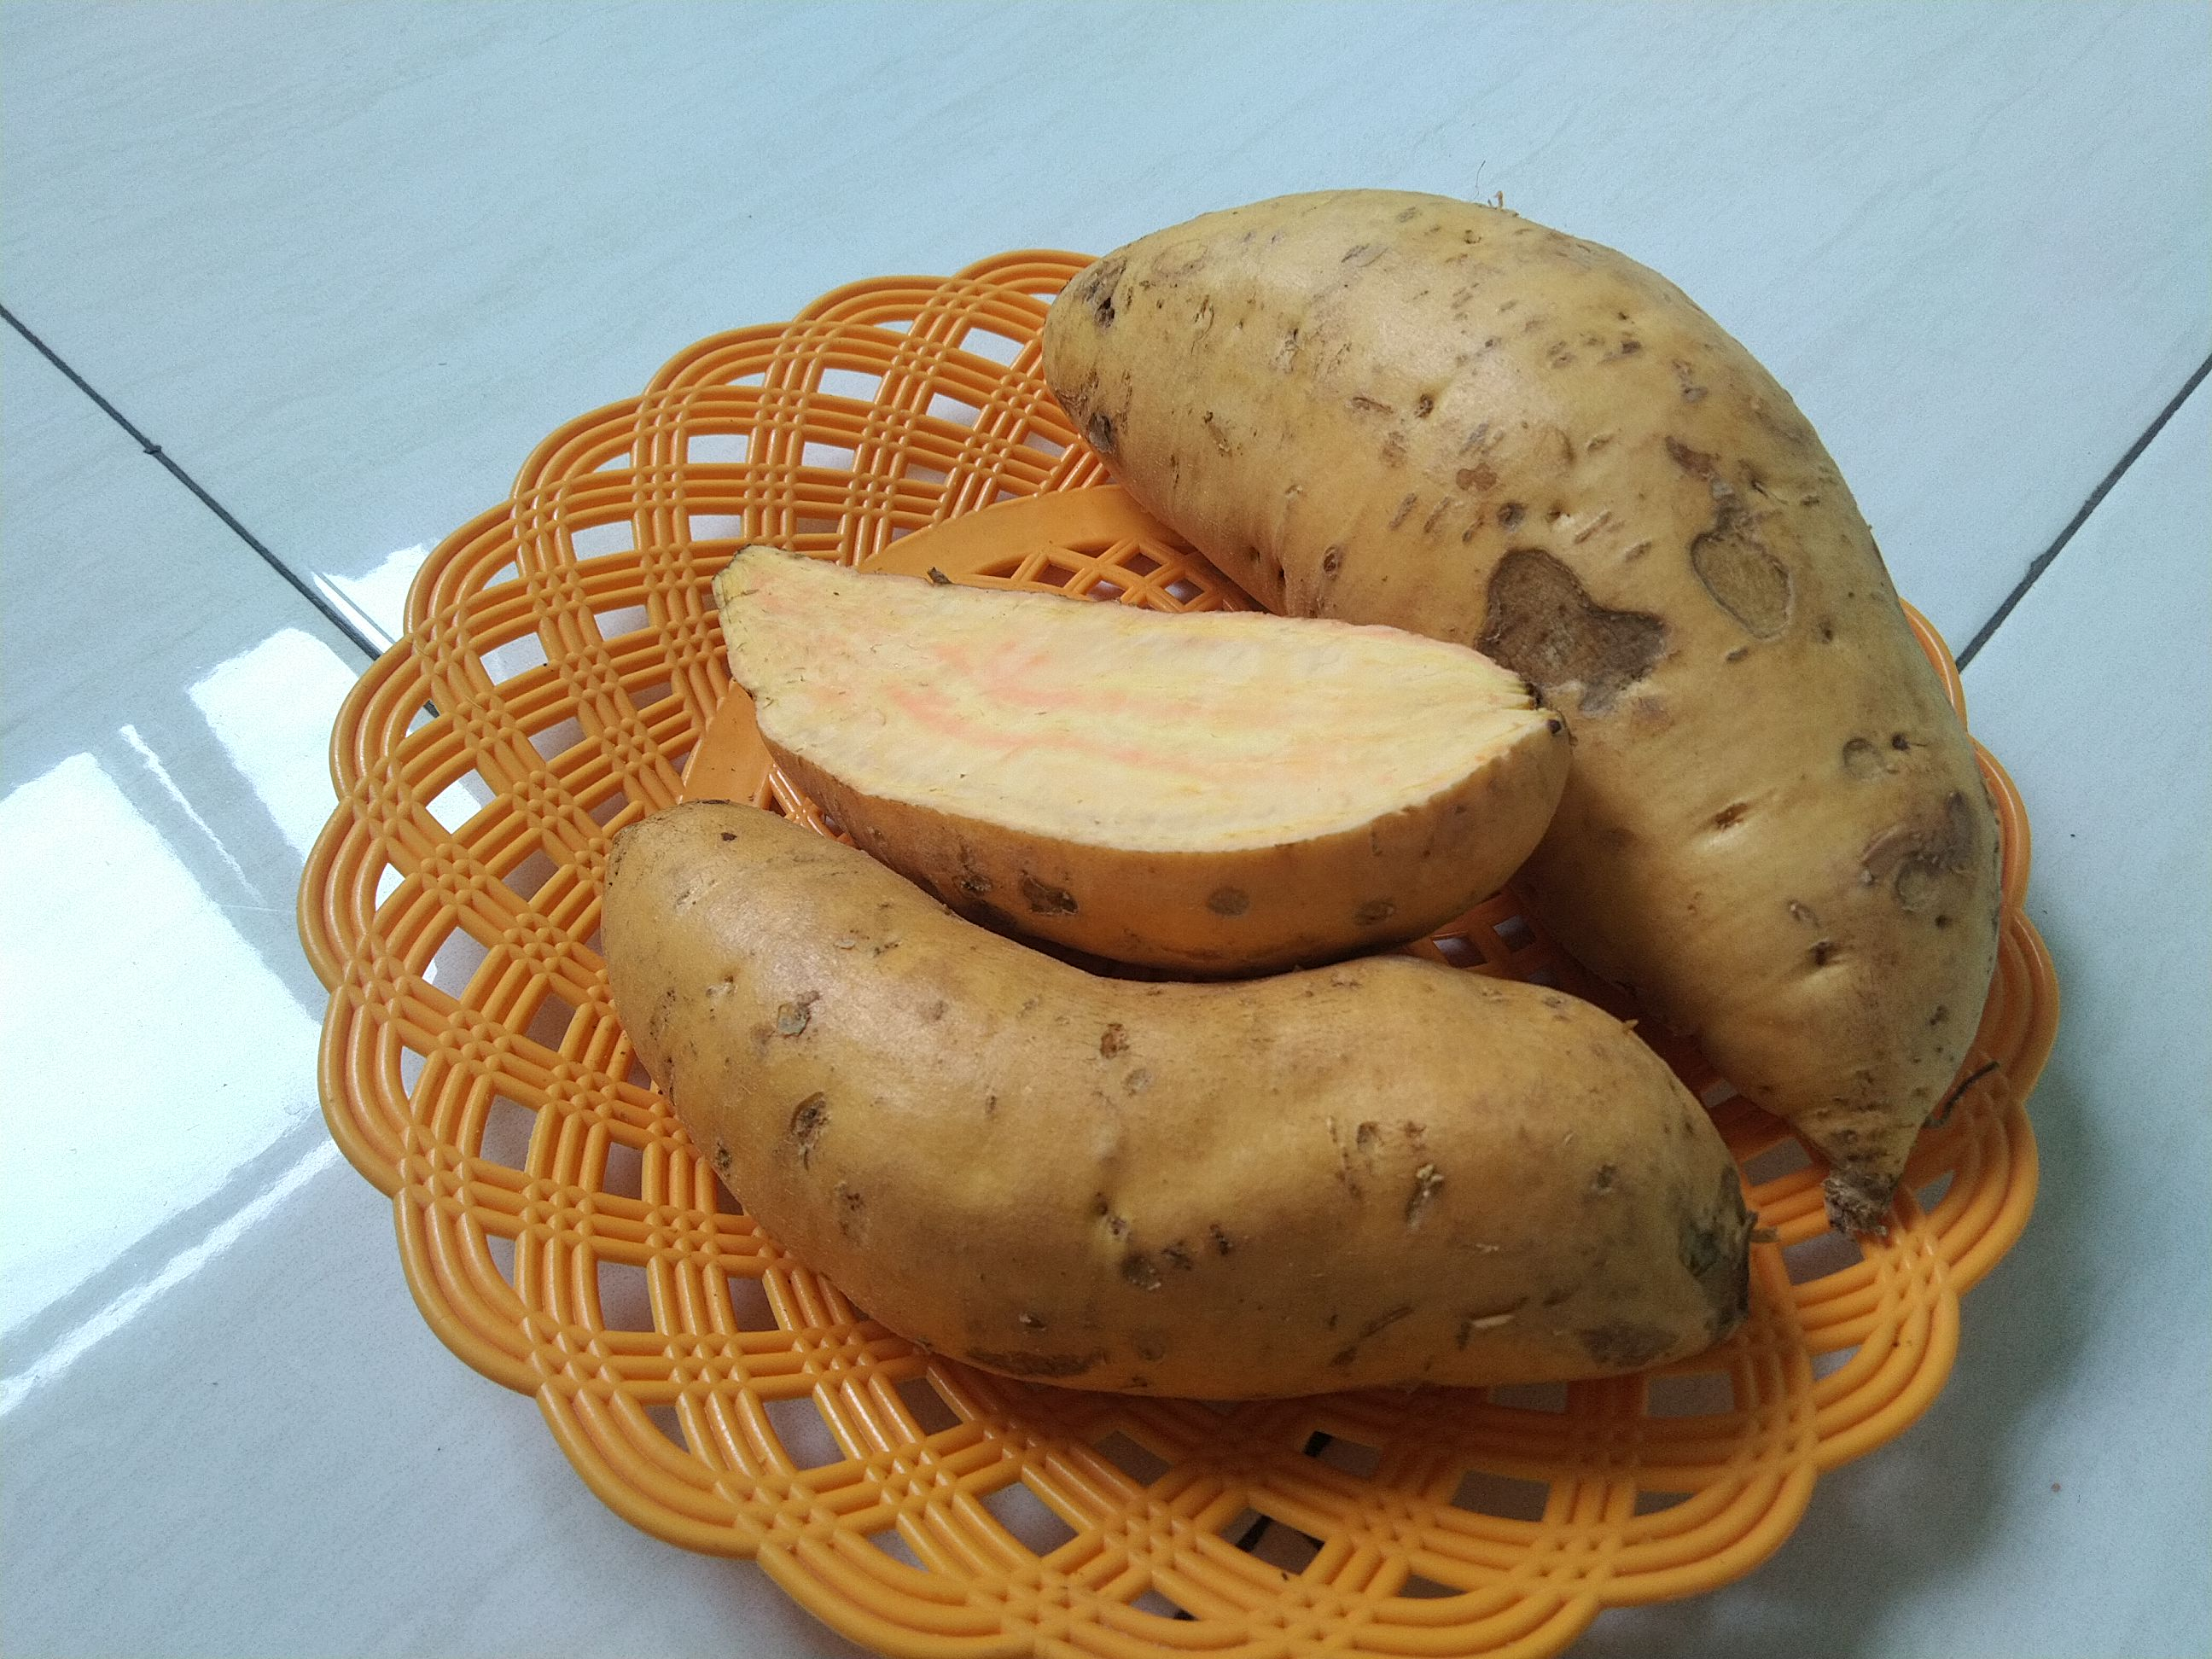ubi cilembu: (533, 188, 2013, 1385), (1024, 193, 2000, 1225), (597, 793, 1761, 1394), (698, 533, 1580, 967)
